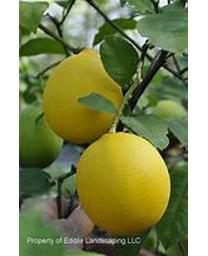lemon: (76, 135, 170, 235), (43, 49, 125, 142)
